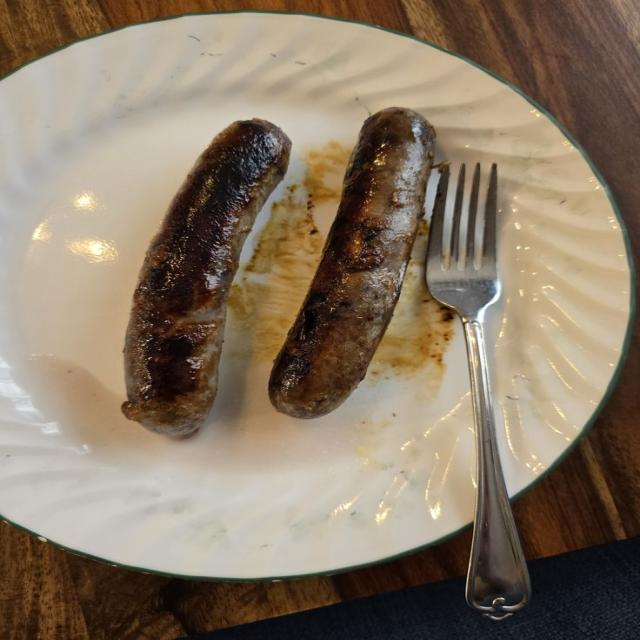sausage: (122, 119, 290, 436), (269, 108, 435, 418)
